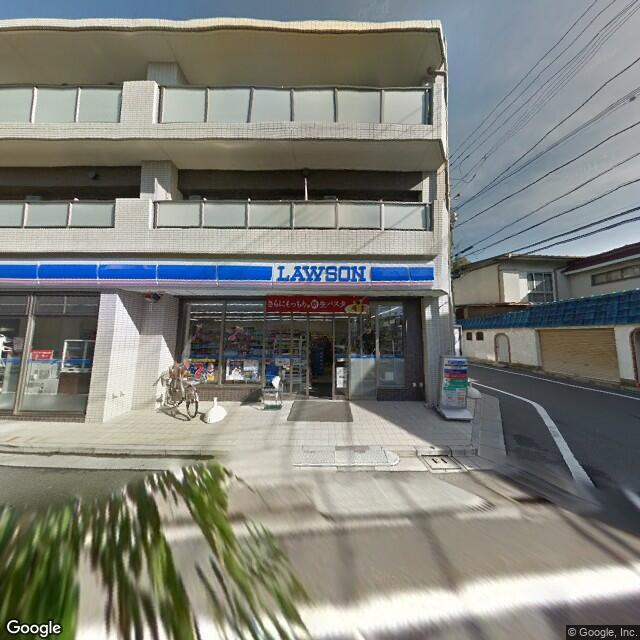lawson: (1, 250, 441, 298)
